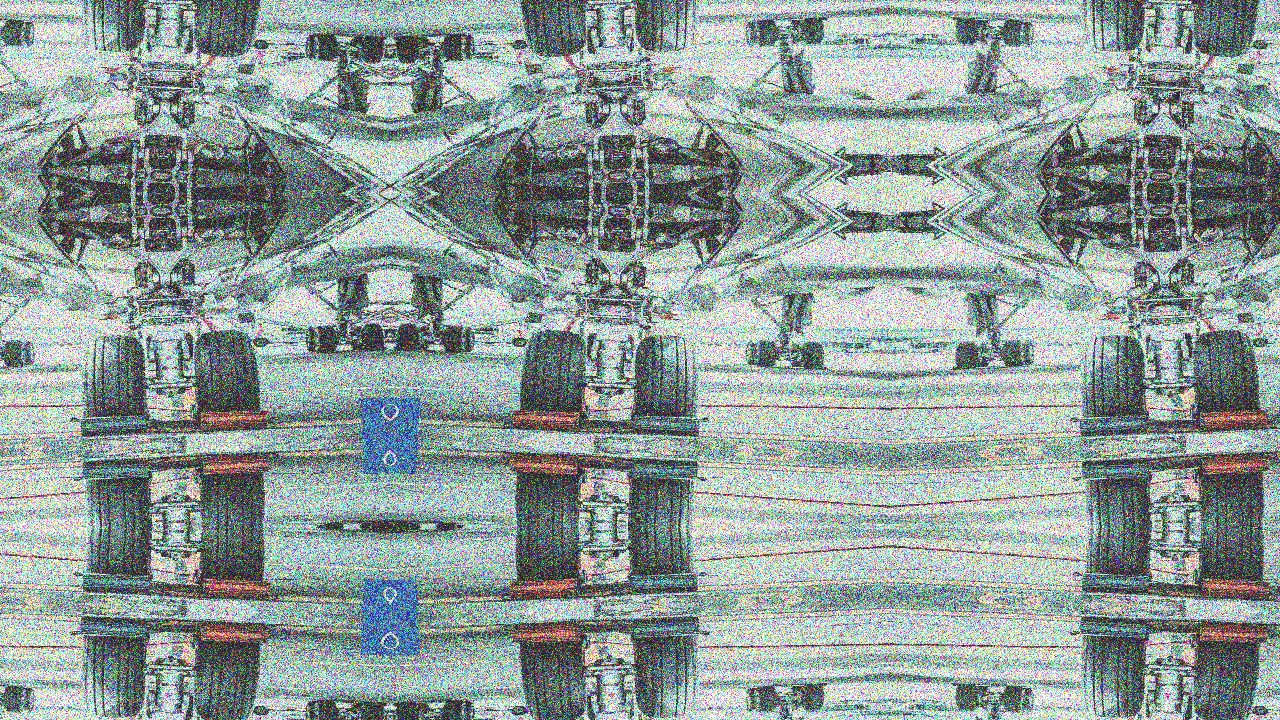chock: (76, 413, 149, 437), (78, 458, 151, 482), (631, 413, 704, 437), (629, 458, 702, 482), (1076, 413, 1149, 437), (1078, 458, 1151, 482), (76, 616, 149, 640), (78, 571, 151, 595), (631, 616, 704, 640), (629, 571, 702, 595), (1076, 616, 1149, 640), (1078, 571, 1151, 595), (198, 408, 269, 432), (511, 408, 582, 432), (1198, 408, 1269, 432), (200, 577, 271, 601), (509, 577, 580, 601), (1200, 577, 1271, 601), (200, 453, 271, 476), (509, 453, 580, 476), (1200, 453, 1271, 476), (198, 622, 269, 645), (511, 622, 582, 645), (1198, 622, 1269, 645)
wheel: (190, 330, 263, 421), (517, 330, 590, 421), (1190, 330, 1263, 421), (190, 632, 263, 720), (517, 632, 590, 720), (1190, 632, 1263, 720), (81, 334, 150, 424), (630, 334, 699, 424), (1081, 334, 1150, 424), (81, 629, 150, 719), (630, 629, 699, 719), (1081, 629, 1150, 719), (196, 464, 269, 527), (511, 464, 584, 527), (1196, 464, 1269, 527), (196, 527, 269, 590), (511, 527, 584, 590), (1196, 527, 1269, 590), (190, 0, 263, 57), (517, 0, 590, 57), (1190, 0, 1263, 57), (87, 471, 157, 527), (623, 471, 693, 527), (1087, 471, 1157, 527), (87, 527, 157, 583), (623, 527, 693, 583), (1087, 527, 1157, 583), (81, 0, 150, 53), (630, 0, 699, 53), (1081, 0, 1150, 53), (146, 331, 195, 363), (585, 331, 634, 363), (1146, 331, 1195, 363), (146, 24, 195, 55), (585, 24, 634, 55), (1146, 24, 1195, 55), (146, 690, 195, 720), (585, 690, 634, 720), (1146, 690, 1195, 720), (306, 324, 338, 353), (442, 324, 474, 353), (306, 34, 338, 62), (442, 34, 474, 62), (795, 17, 825, 46), (955, 17, 985, 46), (795, 341, 825, 369), (955, 341, 985, 369), (795, 684, 825, 712), (955, 684, 985, 712), (360, 36, 386, 64), (394, 36, 420, 64), (360, 323, 386, 351), (394, 323, 420, 351), (2, 339, 25, 367), (755, 339, 778, 367), (1002, 339, 1025, 367), (2, 686, 25, 714), (755, 686, 778, 714), (1002, 686, 1025, 714), (306, 700, 338, 720), (442, 700, 474, 720), (2, 20, 25, 47), (755, 20, 778, 47), (1002, 20, 1025, 47), (348, 37, 367, 62), (413, 37, 432, 62), (348, 325, 367, 350), (413, 325, 432, 350), (360, 703, 386, 720), (394, 703, 420, 720), (20, 339, 36, 365), (744, 339, 760, 365), (1020, 339, 1036, 365), (787, 20, 805, 43), (975, 20, 993, 43), (787, 344, 805, 367), (975, 344, 993, 367), (787, 686, 805, 709), (975, 686, 993, 709), (20, 22, 36, 47), (744, 22, 760, 47), (1020, 22, 1036, 47), (20, 689, 36, 714), (744, 689, 760, 714), (1020, 689, 1036, 714), (182, 26, 195, 55), (585, 26, 598, 55), (1182, 26, 1195, 55), (182, 332, 195, 360), (585, 332, 598, 360), (1182, 332, 1195, 360), (182, 693, 195, 720), (585, 693, 598, 720), (1182, 693, 1195, 720), (304, 35, 318, 60), (462, 35, 476, 60), (304, 327, 318, 352), (462, 327, 476, 352), (348, 704, 367, 720), (413, 704, 432, 720), (304, 701, 318, 720), (462, 701, 476, 720), (145, 26, 154, 53), (626, 26, 635, 53), (1145, 26, 1154, 53), (145, 693, 154, 720), (626, 693, 635, 720), (1145, 693, 1154, 720), (145, 334, 154, 360), (626, 334, 635, 360), (1145, 334, 1154, 360), (252, 39, 269, 50), (511, 39, 528, 50), (1252, 39, 1269, 50), (252, 337, 269, 347), (511, 337, 528, 347), (1252, 337, 1269, 347), (252, 706, 269, 716), (511, 706, 528, 716), (1252, 706, 1269, 716), (286, 42, 295, 45), (485, 42, 494, 45), (286, 709, 295, 712), (485, 709, 494, 712), (286, 342, 295, 344), (485, 342, 494, 344)
